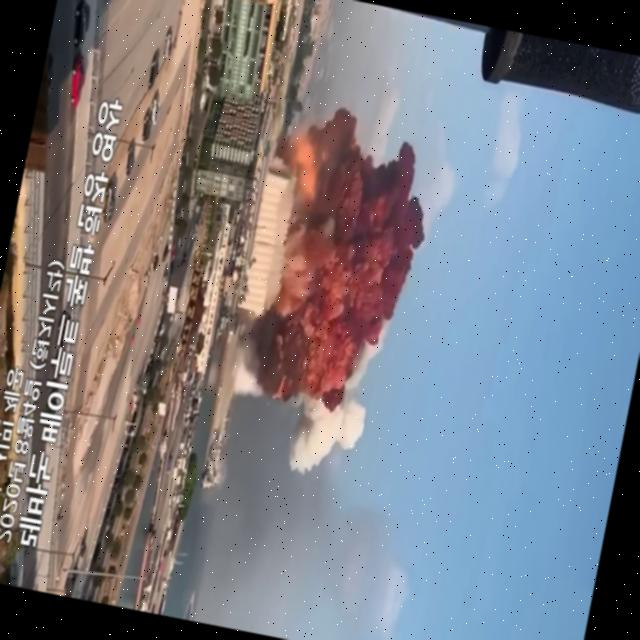explosion: (178, 63, 482, 513)
